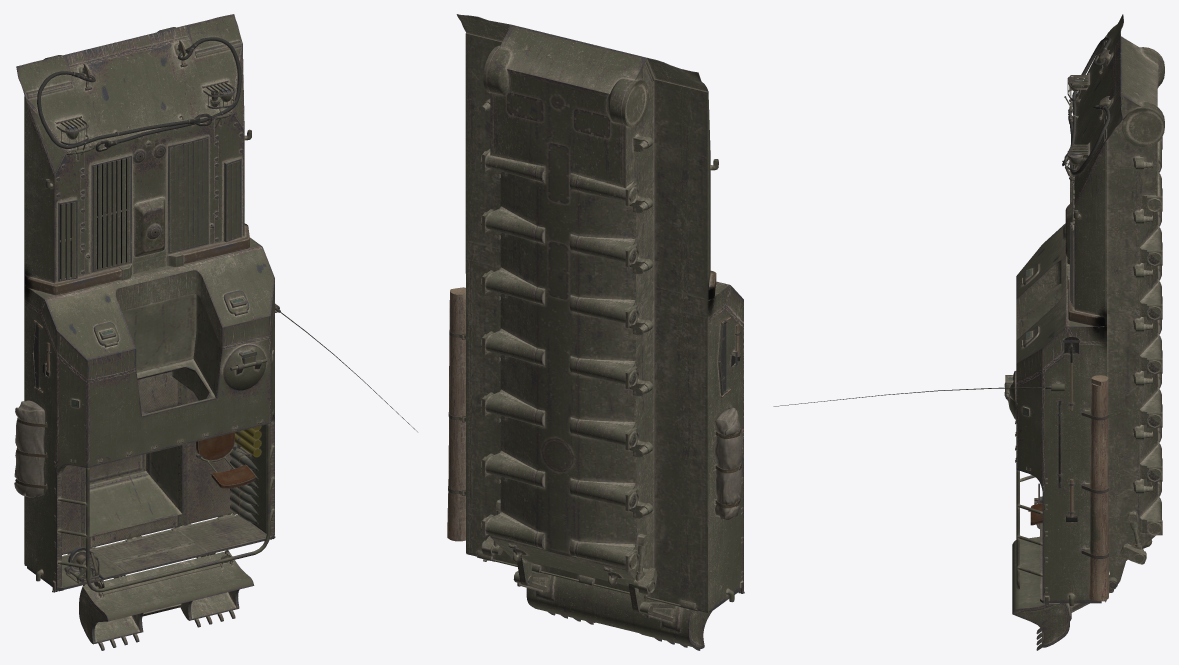
Rendered from Hull.glb.
The picture shows the model from 3 angles, left to right: view 1: azimuth 30°, elevation 25°; view 2: azimuth 150°, elevation 25°; view 3: azimuth 270°, elevation 25°; orthographic projection. The views are drawn at different scales.
Visible parts, largest first — view 1: set_0_group_0, set_0_group_1; view 2: set_0_group_0; view 3: set_0_group_0, set_0_group_1.
Boxes of the visible parts, x1=… form: set_0_group_0: x1=14, y1=14, x2=417, y2=650; set_0_group_1: x1=62, y1=293, x2=266, y2=583; set_0_group_0: x1=447, y1=14, x2=744, y2=650; set_0_group_0: x1=773, y1=14, x2=1164, y2=650; set_0_group_1: x1=1019, y1=283, x2=1061, y2=525.
Bounding box in the file's own units: 3.98 × 8.41 × 5.39.
2 materials, 2 textured.
